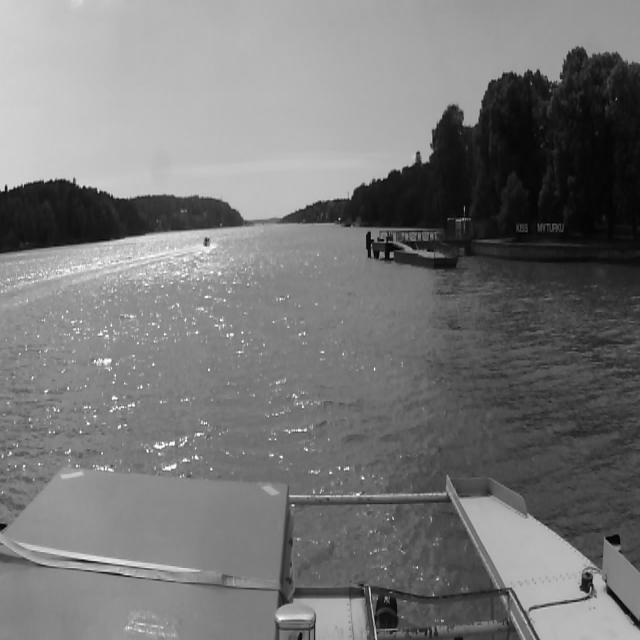ship: (203, 238, 211, 245)
